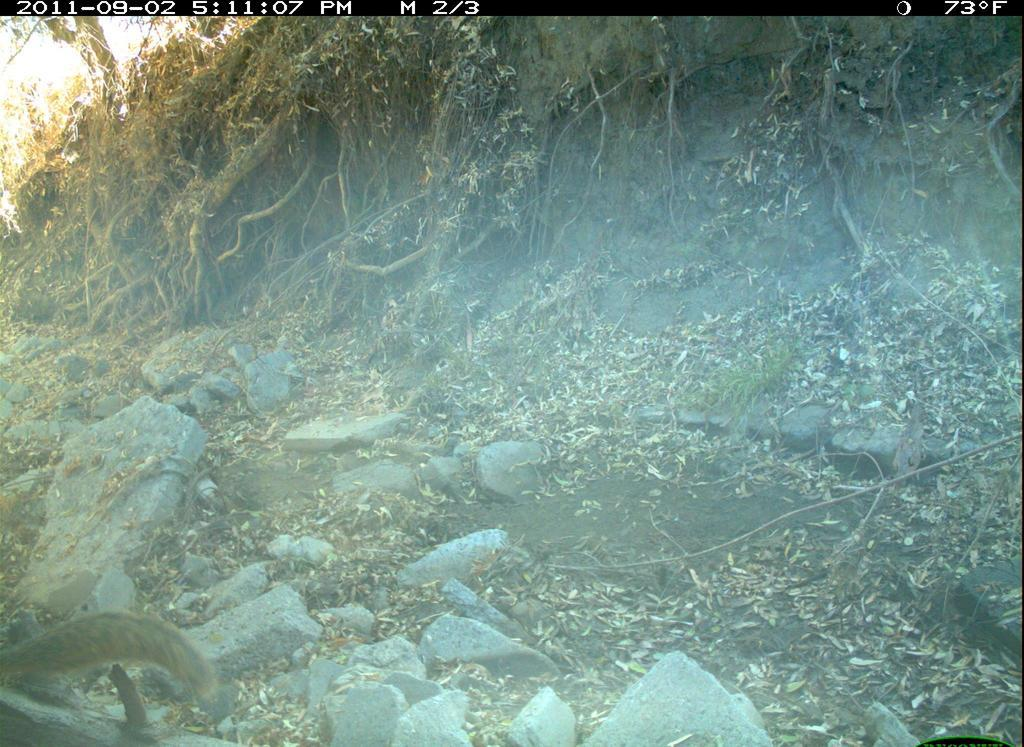squirrel: (1, 605, 228, 708)
